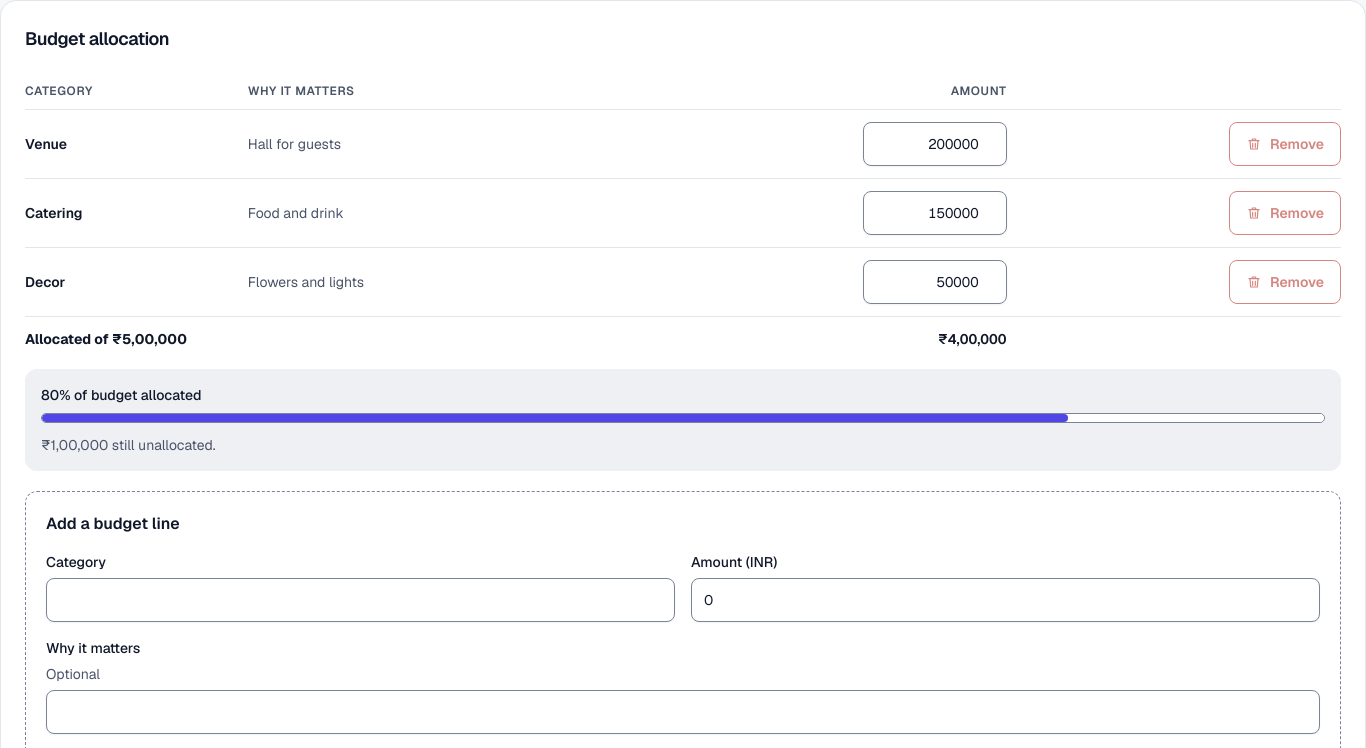
Test: BudgetTable (add line) › moves focus to the new row's amount input
Type "Music" into the field labelled "Category" at (360, 600), box [46,578,675,622]
(page scrolled)
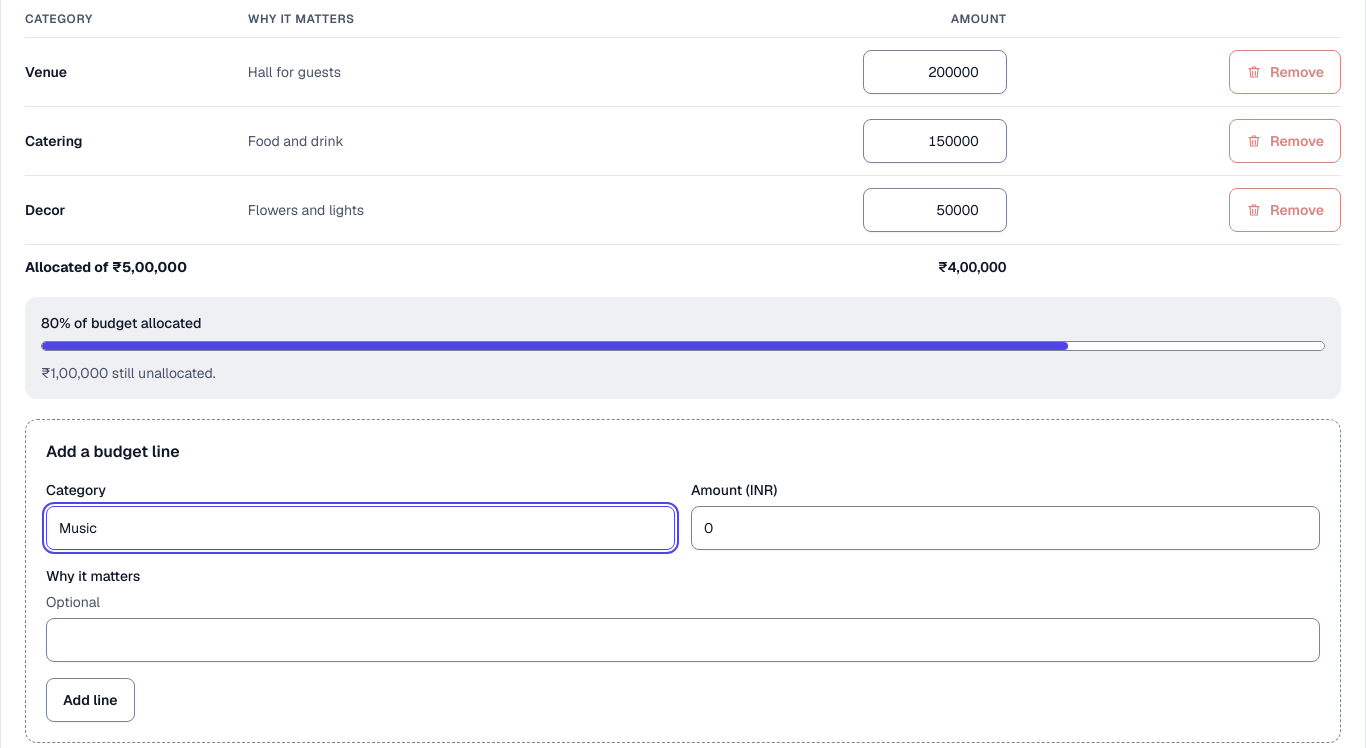
Click the button "Add line" at (90, 700), box [46,678,135,722]
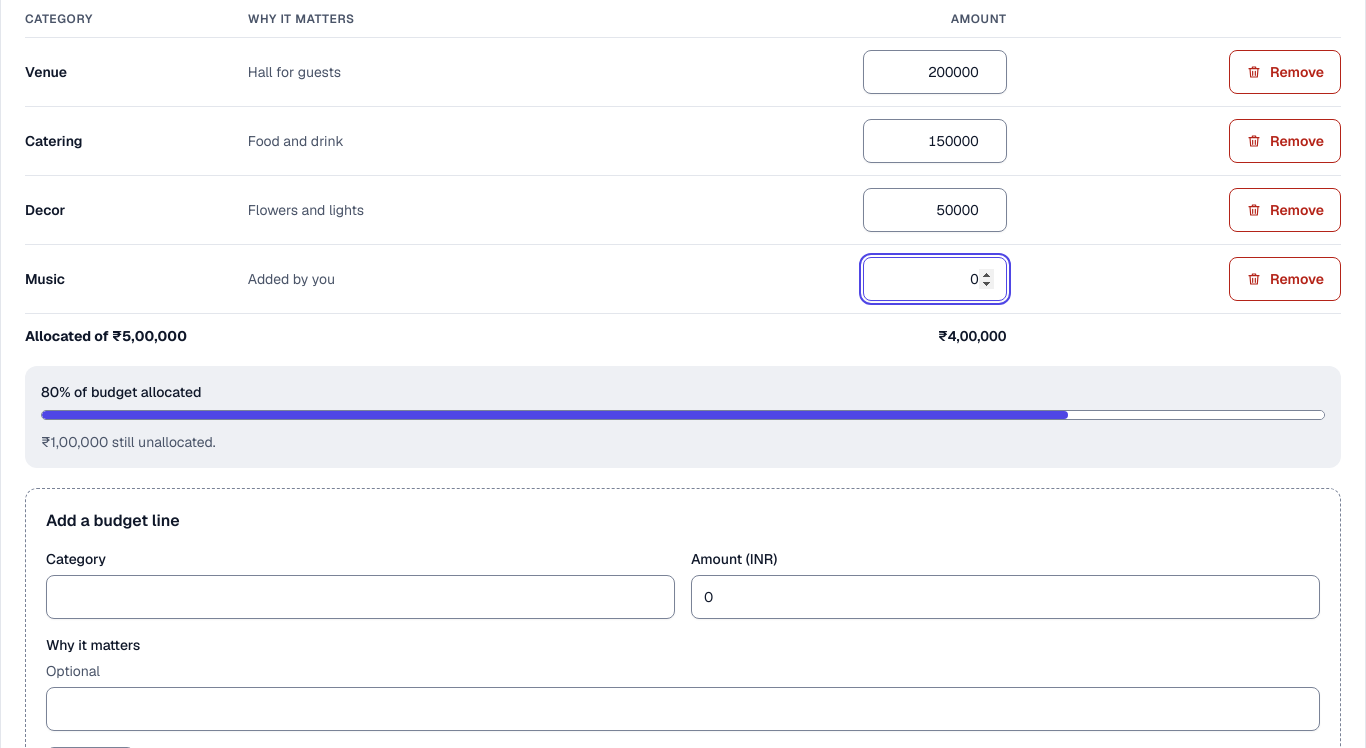
Expected: the column heading "Music" is shown, [25,244,248,314]
